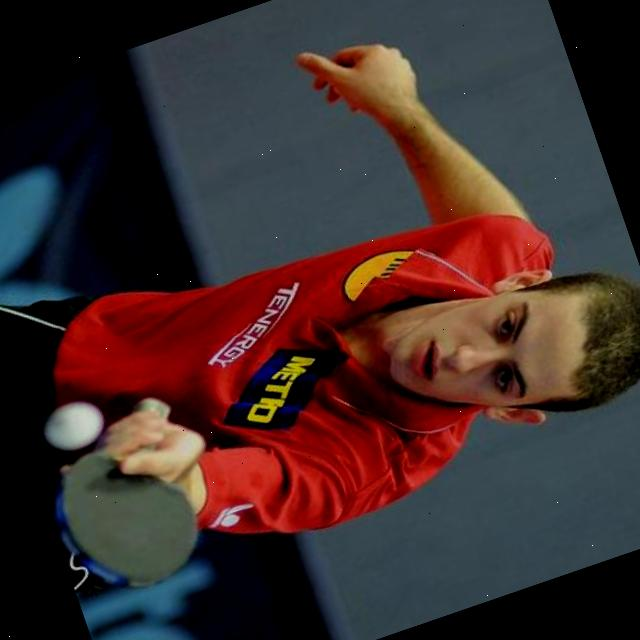ping-pong-ball: (36, 392, 110, 456)
